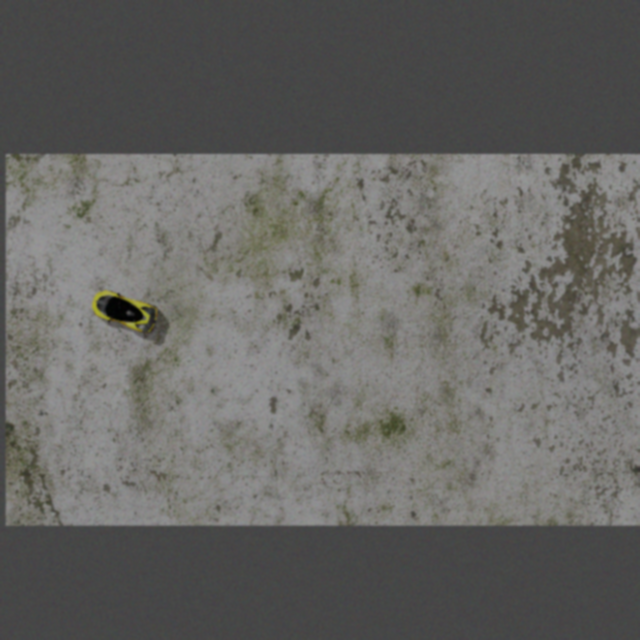car: (83, 284, 164, 337)
